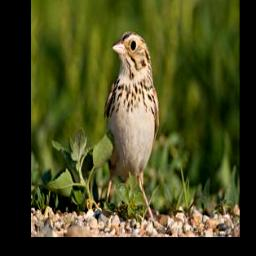Sparrow: (103, 27, 161, 229)
